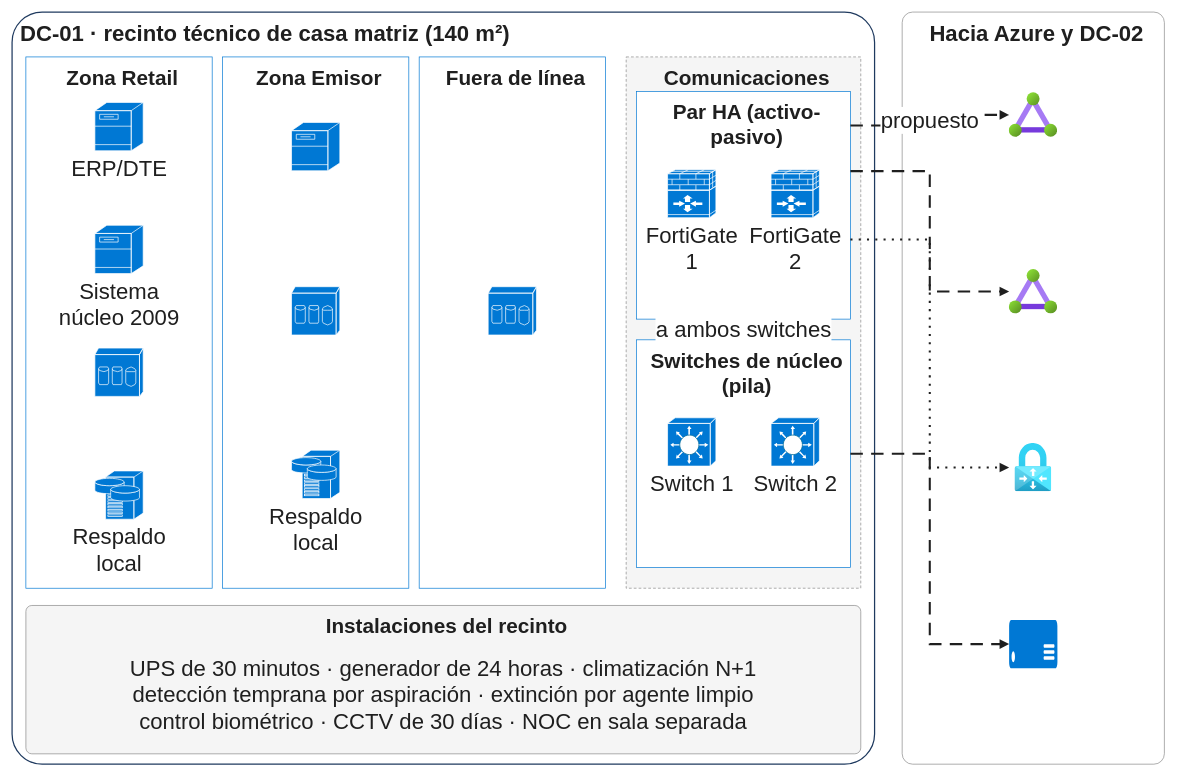
This 1177x777 diagram has some shape labels left out. Here are the shapes that lost their labels. From the top down, the centre of each, then its label:
At (1033,114): "ExpressRoute proveedor A".
At (315,146): "Crédito 2011".
At (315,310): "SAN Emisor".
At (511,310): "Cinta en custodia".
At (1033,291): "ExpressRoute proveedor B".
At (118,371): "SAN Retail".
At (1033,467): "VPN de respaldo".
At (1033,644): "DC-02 sala de respaldo".
